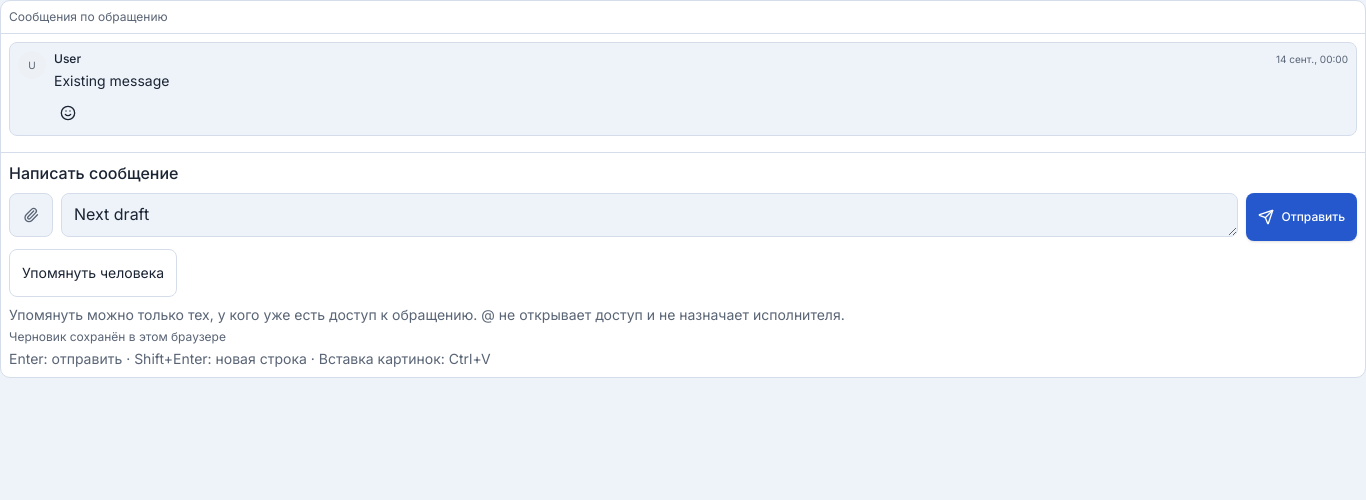
Test: an ACK without canonical delivery remains bounded and retryable
The width and height of the screenshot is (1366, 500).
Expected: the text "Existing message" is shown, [54,72,169,89]
Step 1. Replace the text in the text box with placeholder "Сообщение... (Enter — отправить)" with "Keep this send" → point(649, 215), box [61,193,1238,237]
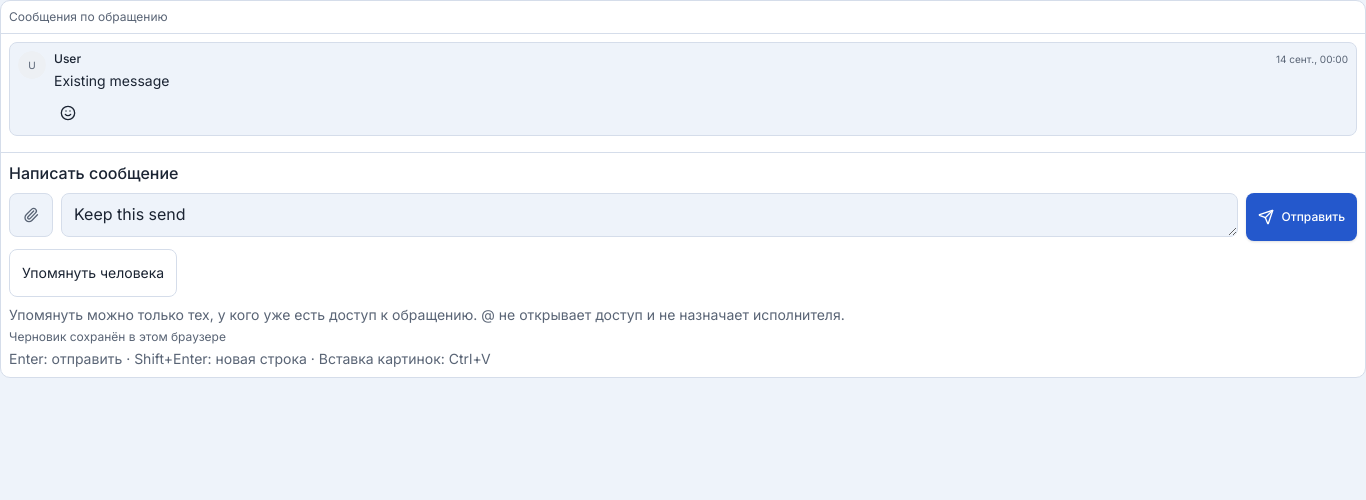
Step 2. Press Enter in the text box with placeholder "Сообщение... (Enter — отправить)", box [61,193,1238,237]
Wait 10001 ms
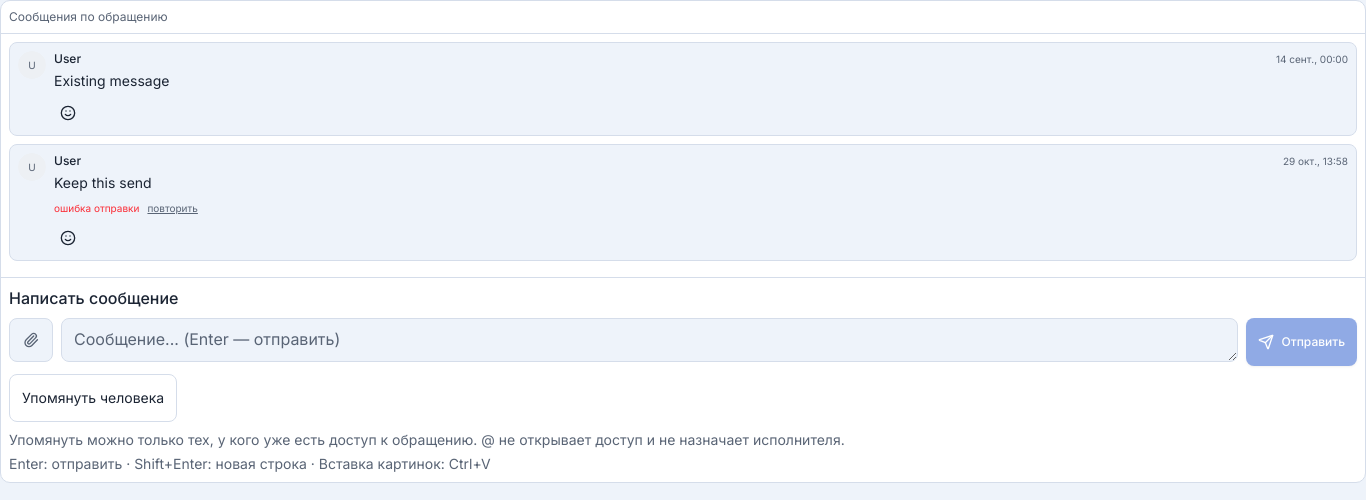
Result: the button "повторить" is enabled at [147,201,198,216]
